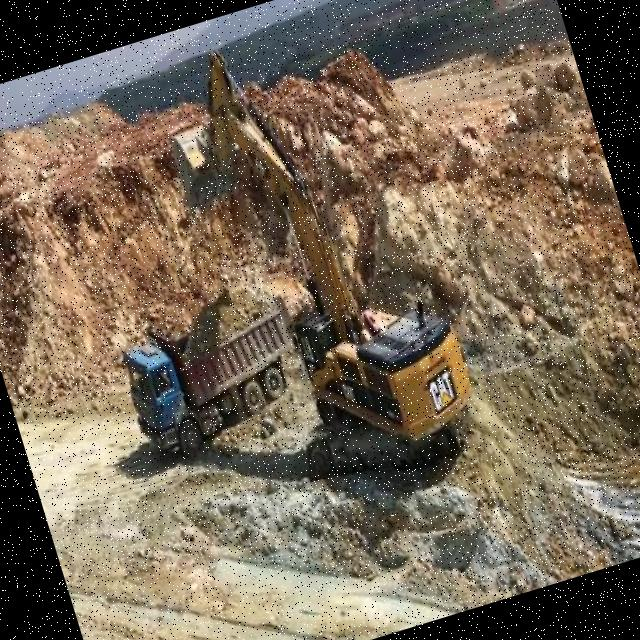Dump Truck: (108, 286, 320, 474)
Excavator: (140, 0, 493, 513)
